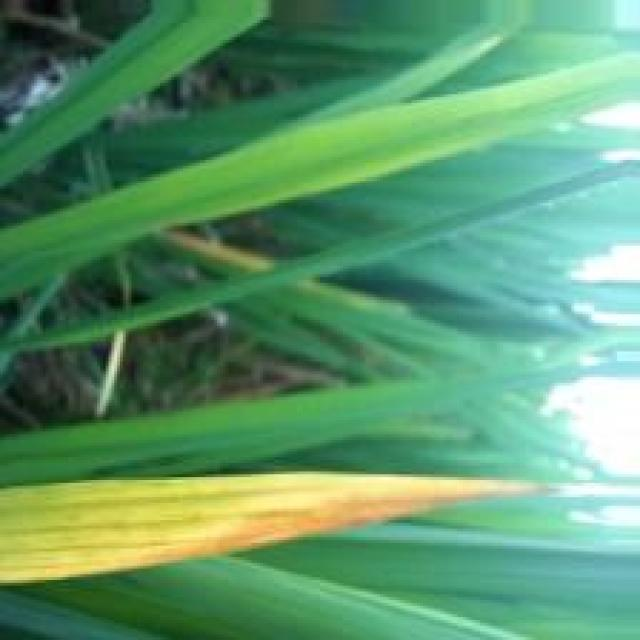Bacterial_Leaf_Blight: (43, 466, 554, 578)
